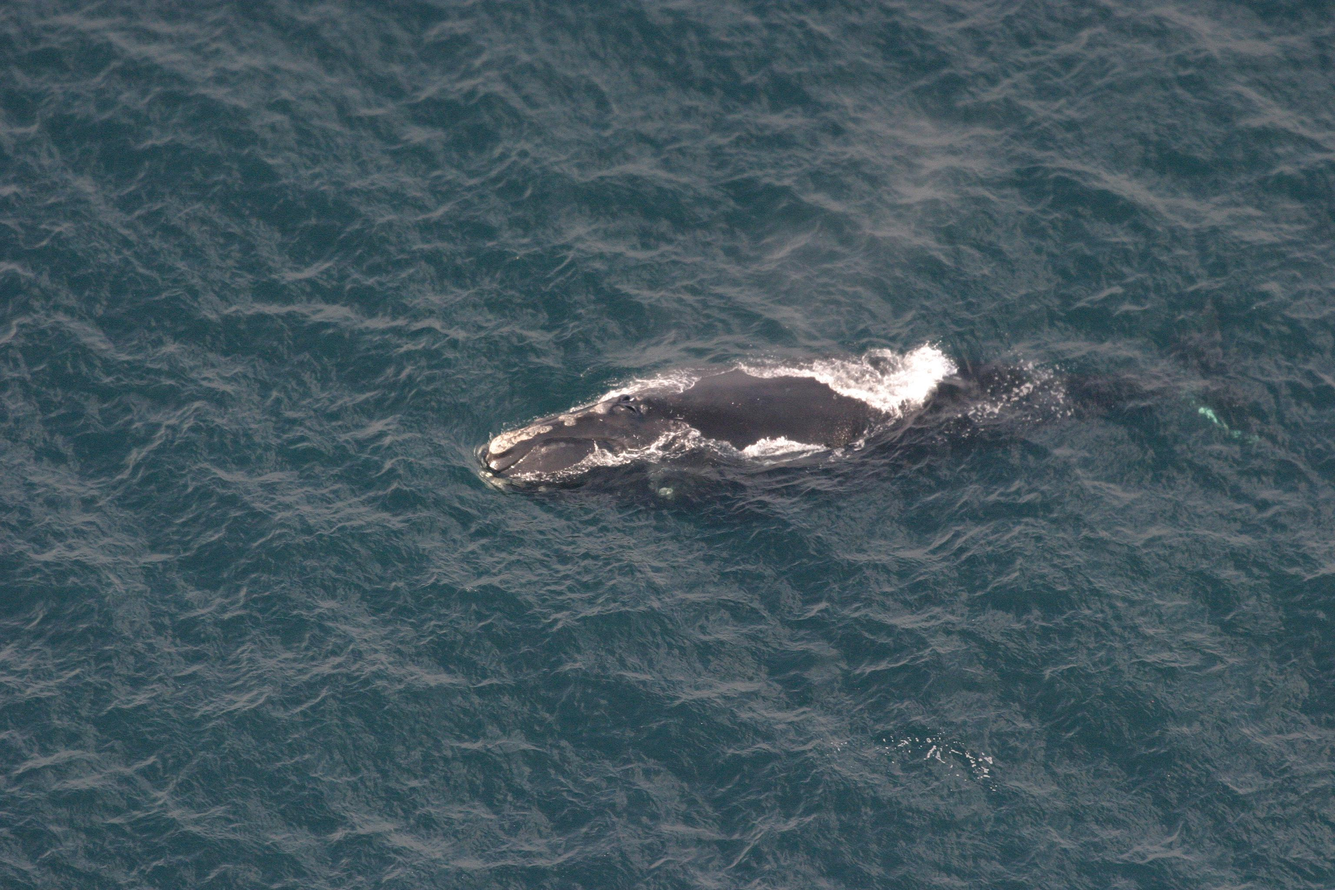whale: (468, 238, 1273, 508)
